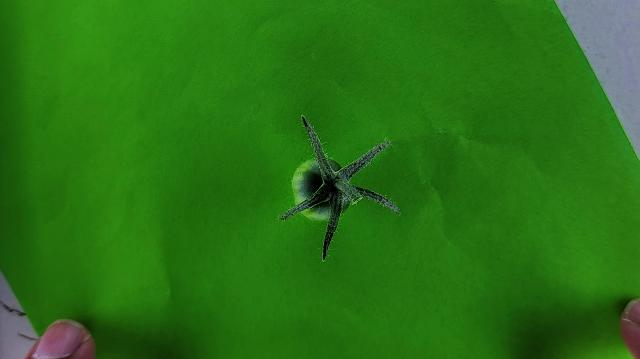Fruit Maturation: (289, 155, 347, 220)
